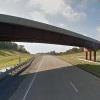Bridge: (7, 6, 92, 55)
